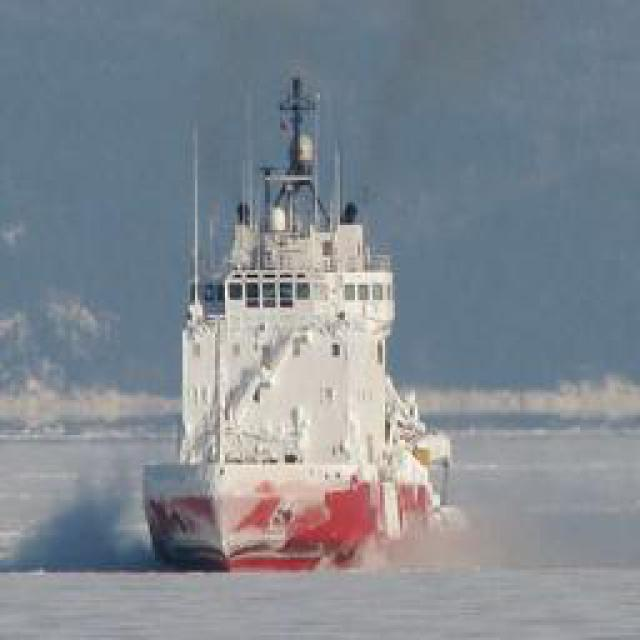Ship: (146, 86, 459, 574)
